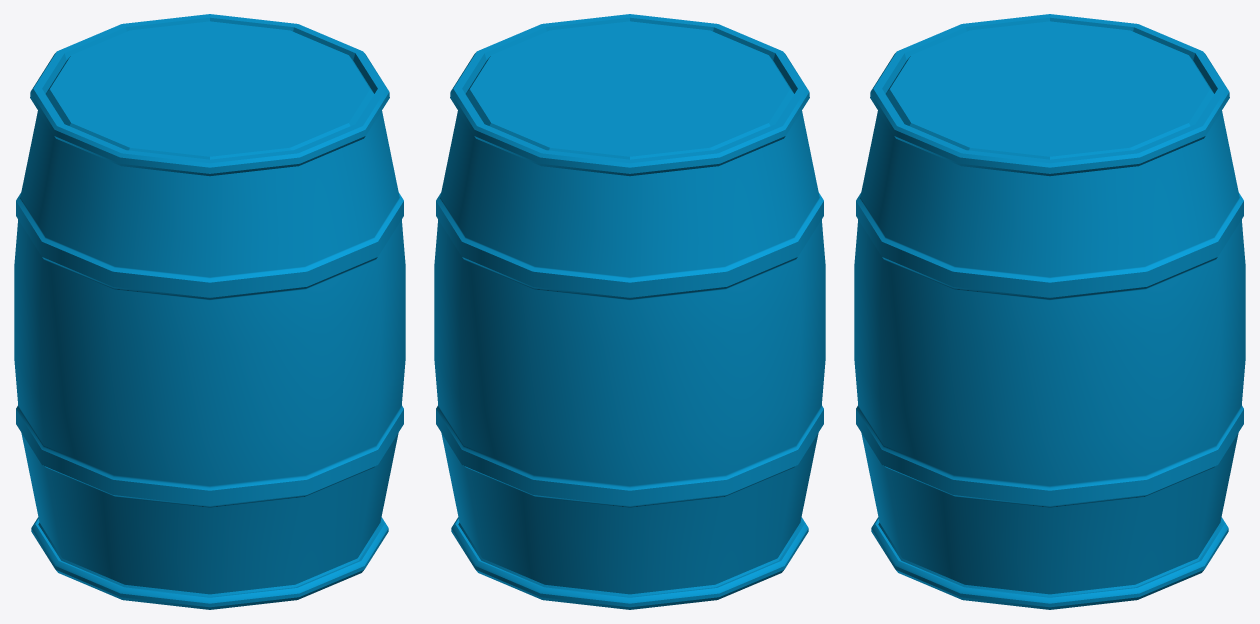
The model's file is Barrel.fbx.
The picture shows the model from 3 angles, left to right: view 1: azimuth 30°, elevation 25°; view 2: azimuth 150°, elevation 25°; view 3: azimuth 270°, elevation 25°; orthographic projection.
Visible parts, largest first — view 1: Barrel_tri; view 2: Barrel_tri; view 3: Barrel_tri.
Part boxes in pixels (bbox=[...]): Barrel_tri: bbox=[14, 14, 405, 609]; Barrel_tri: bbox=[434, 14, 825, 609]; Barrel_tri: bbox=[854, 14, 1245, 609].
Size of the model in its own units: 2.16 by 2.72 by 2.16.
